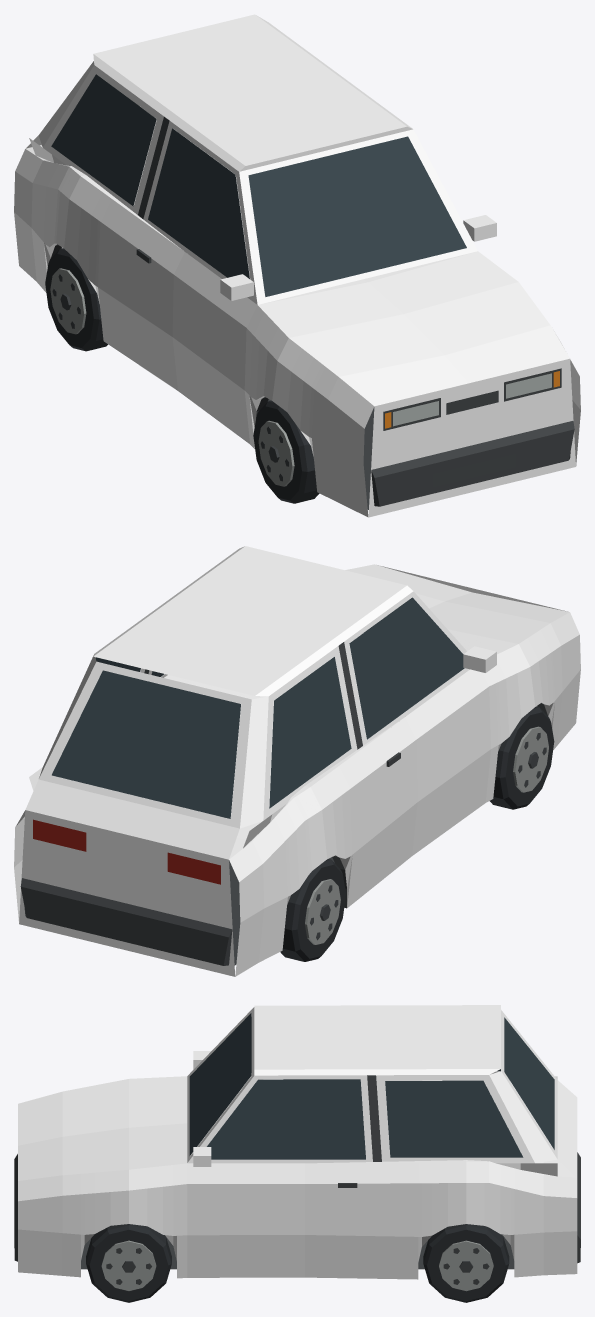
File: vallon_rafale_d_est.glb
3 views of the same model, one above another, from view 1: azimuth 30°, elevation 25°; view 2: azimuth 150°, elevation 25°; view 3: azimuth 270°, elevation 25° (orthographic). The views are drawn at different scales.
Parts seen in each view (by area): view 1: vallon_rafale_d_est; view 2: vallon_rafale_d_est; view 3: vallon_rafale_d_est.
Boxes of the visible parts, x1,y1,x2,y2 form: vallon_rafale_d_est: (14, 14, 580, 517); vallon_rafale_d_est: (14, 546, 580, 976); vallon_rafale_d_est: (14, 1005, 580, 1302).
Size of the model in its own units: 1.66 by 1.6 by 3.78.
8 materials, 1 textured.
